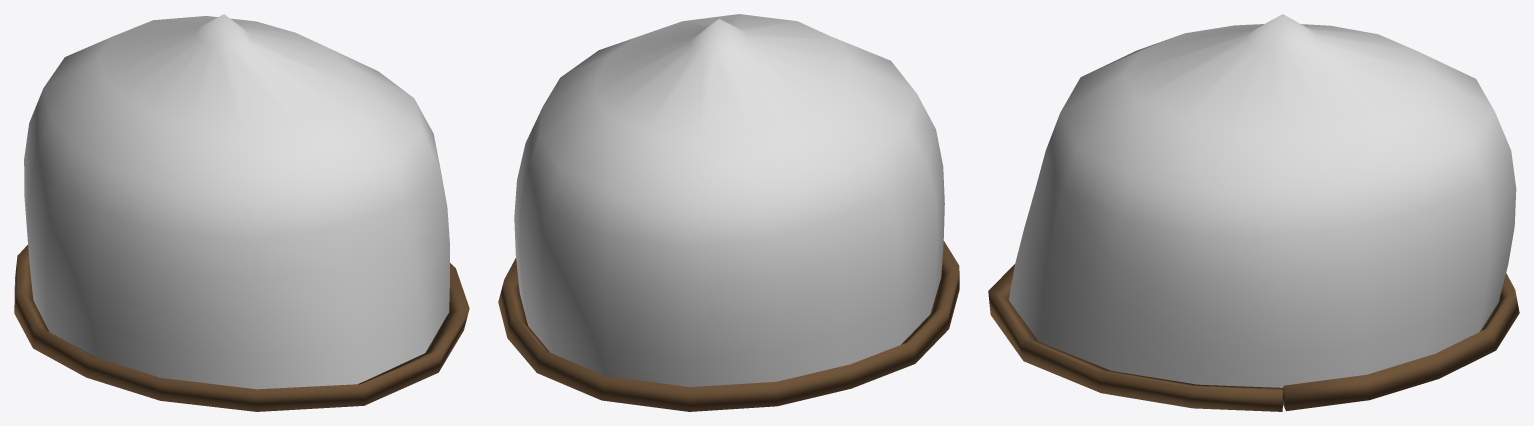
The model's file is timber_armor_head.glb.
The picture shows the model from 3 angles, left to right: view 1: azimuth 30°, elevation 25°; view 2: azimuth 150°, elevation 25°; view 3: azimuth 270°, elevation 25°; orthographic projection. The views are drawn at different scales.
Parts seen in each view (by area): view 1: timber_armor_head; view 2: timber_armor_head; view 3: timber_armor_head.
Boxes of the visible parts, x1,y1,x2,y2 form: timber_armor_head: [14, 14, 469, 411]; timber_armor_head: [498, 14, 959, 411]; timber_armor_head: [988, 14, 1519, 411].
Size of the model in its own units: 0.2443 by 0.1754 by 0.2799.
